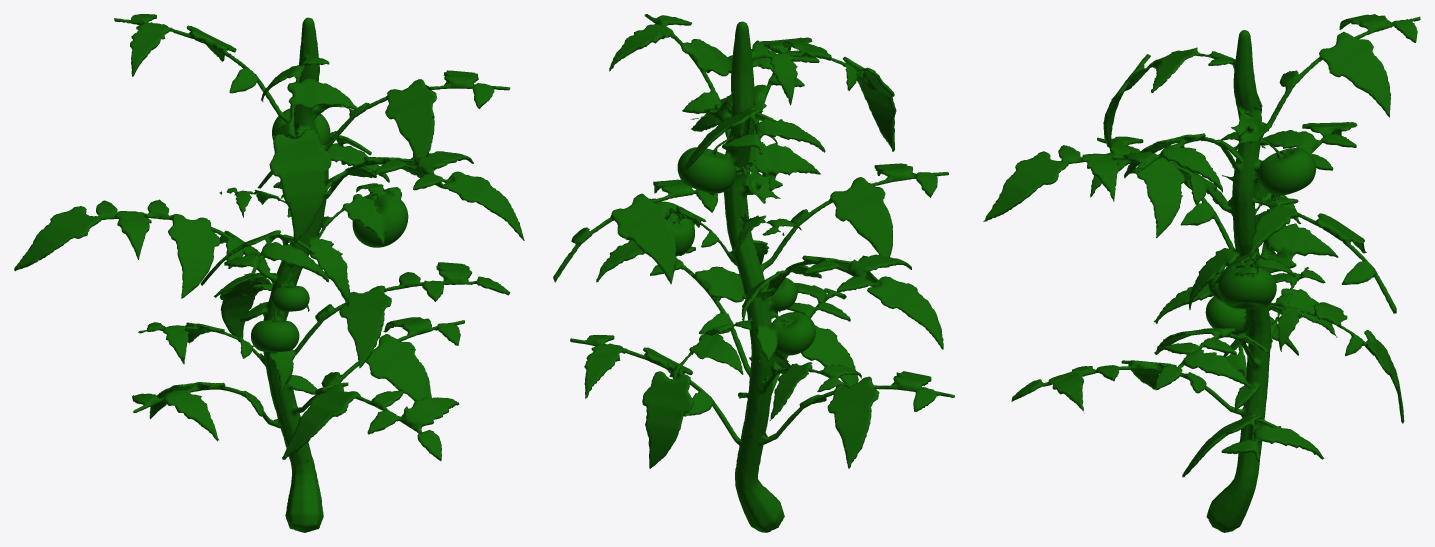
The model's file is Paradajz_BiljkaTextura2.fbx.
The picture shows the model from 3 angles, left to right: view 1: azimuth 30°, elevation 25°; view 2: azimuth 150°, elevation 25°; view 3: azimuth 270°, elevation 25°; orthographic projection.
Parts seen in each view (by area): view 1: Cube.040; view 2: Cube.040; view 3: Cube.040.
Boxes of the visible parts, x1,y1,x2,y2 form: Cube.040: [14, 14, 524, 532]; Cube.040: [553, 14, 954, 532]; Cube.040: [983, 14, 1420, 532].
Size of the model in its own units: 867 by 939 by 1108.
